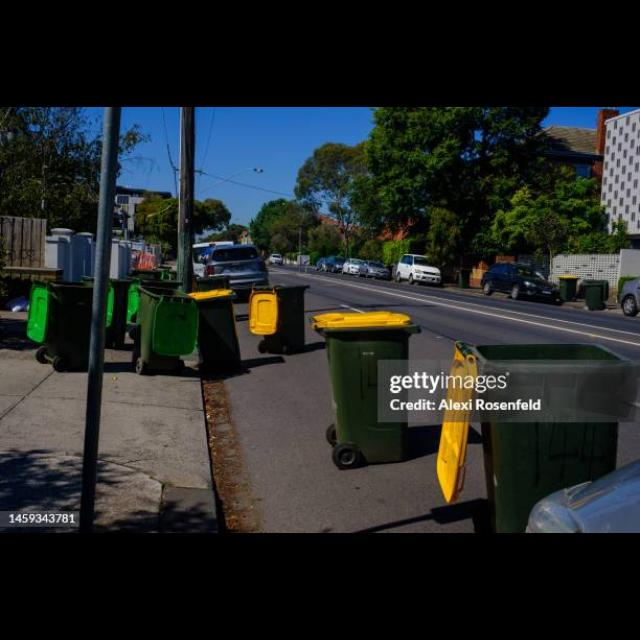Trash_Can_Closed: (310, 311, 423, 465), (187, 288, 239, 370)
Trash_Can_Empty: (437, 341, 639, 534), (27, 281, 93, 373), (135, 285, 197, 375), (249, 283, 310, 354)
